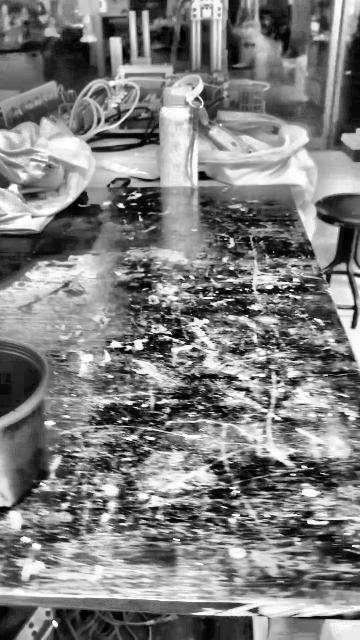pot: (0, 341, 47, 508)
